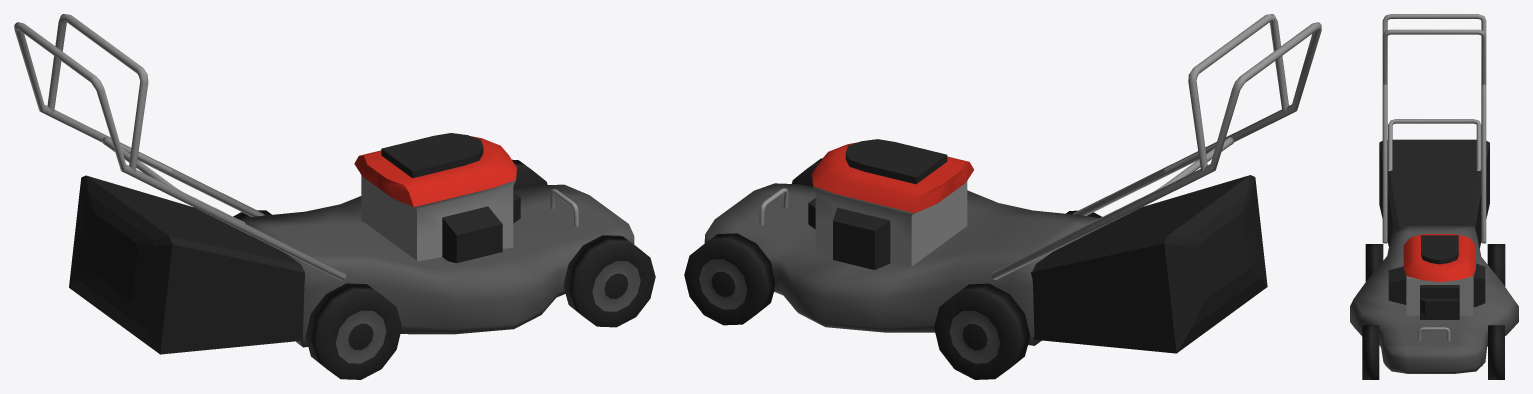
Rendered from Rasenmäher.fbx.
3 views of the same model, side by side, from view 1: azimuth 30°, elevation 25°; view 2: azimuth 150°, elevation 25°; view 3: azimuth 270°, elevation 25° (orthographic). The views are drawn at different scales.
Visible parts, largest first — view 1: Cylinder.002; view 2: Cylinder.002; view 3: Cylinder.002.
Part boxes in pixels (x1,y1,x2,y2): Cylinder.002: (14, 14, 655, 379); Cylinder.002: (684, 14, 1321, 379); Cylinder.002: (1350, 14, 1518, 379).
Bounding box in the file's own units: 632 × 387 × 274.
